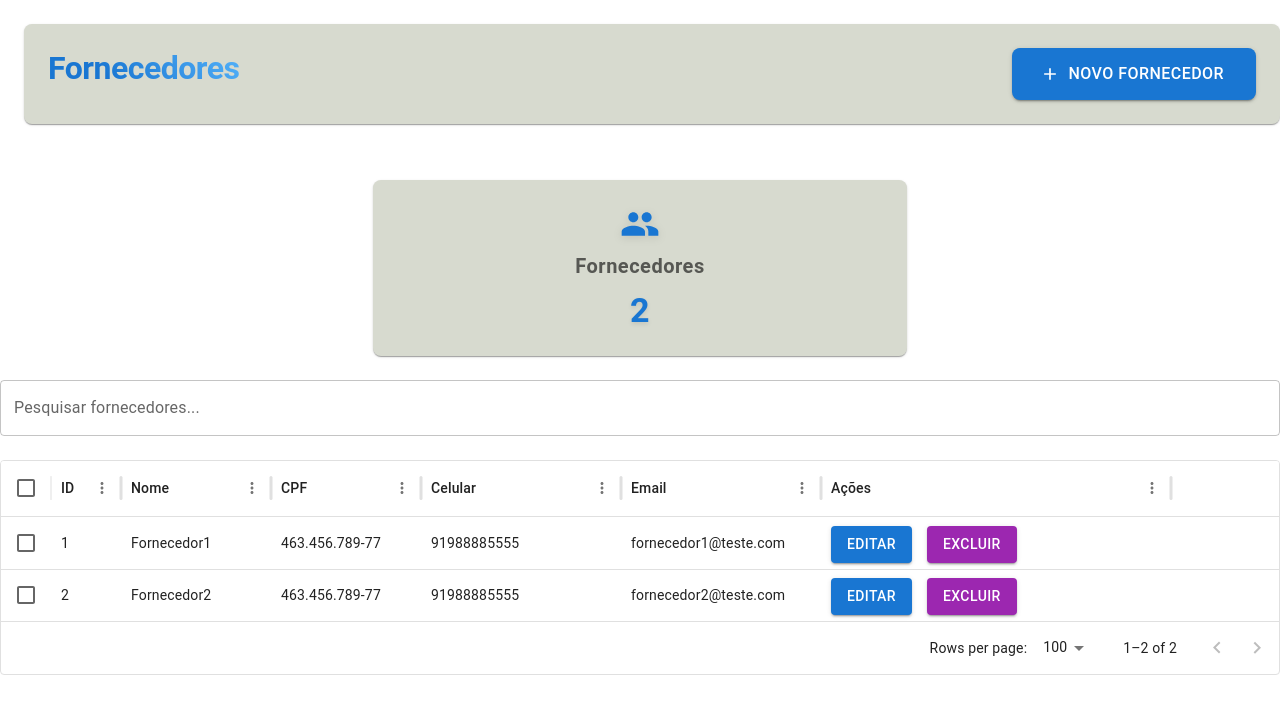
Test: Componente Cliente › Abre formulário para edição ao clicar em Editar
This screenshot has width=1280, height=720.
Expected: the table is shown, [1, 461, 1279, 621]
Click the button "Editar" next to "fornecedor1@teste.com" at (872, 544), box [831, 526, 912, 562]
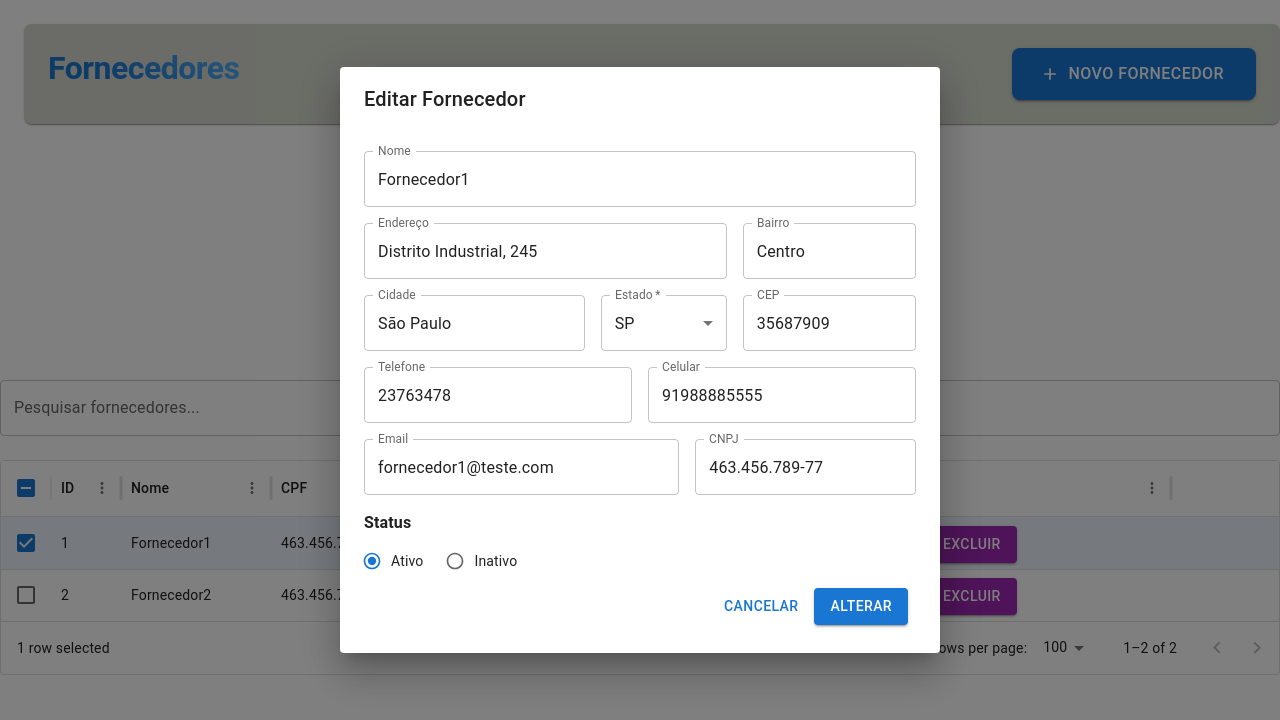
Result: the dialog is shown at [340, 67, 940, 653]
